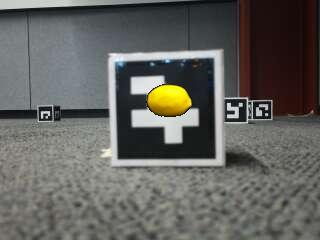lemon: (148, 85, 191, 117)
